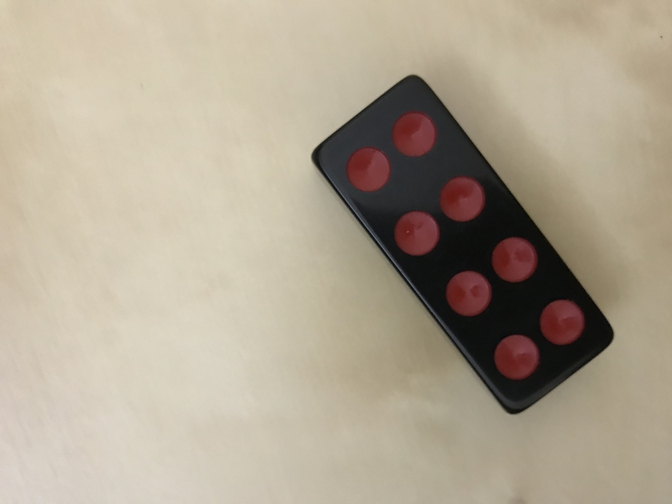man: (310, 74, 615, 416)
